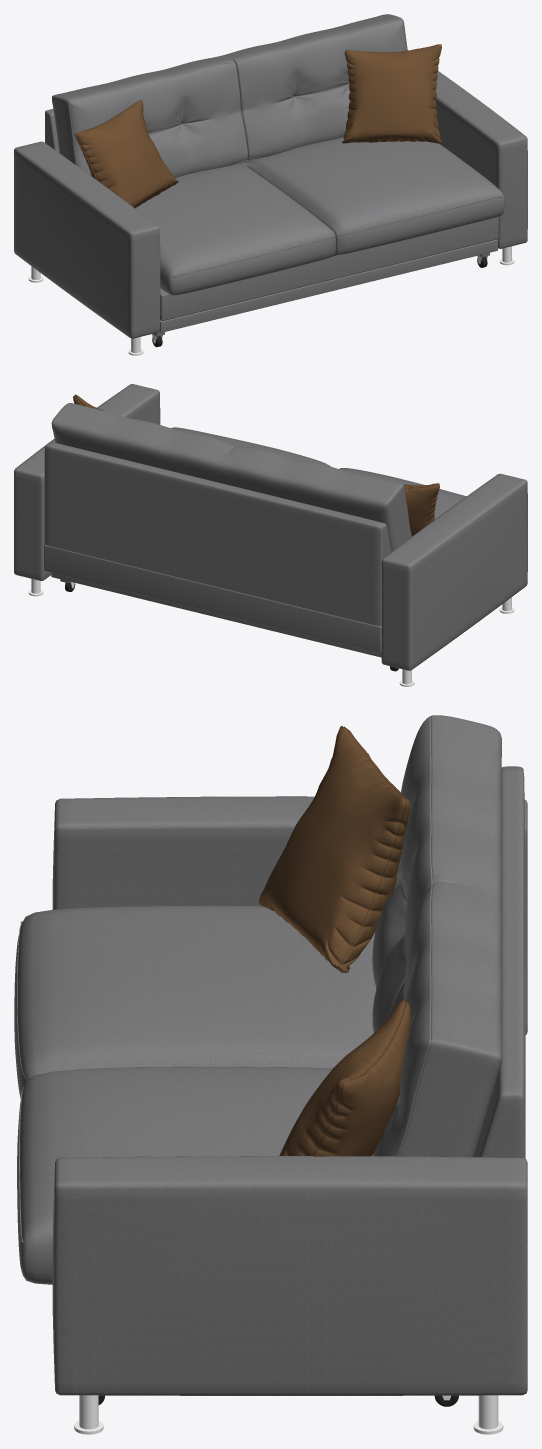
3 views of the same model, one above another, from view 1: azimuth 30°, elevation 25°; view 2: azimuth 150°, elevation 25°; view 3: azimuth 270°, elevation 25° (orthographic). The views are drawn at different scales.
Visible parts, largest first — view 1: Box009_gray_fabric_0, pillow_002, pillow_01_perl_fabric_0; view 2: Box009_gray_fabric_0, pillow_01_perl_fabric_0; view 3: Box009_gray_fabric_0, pillow_01_perl_fabric_0, pillow_002, Line010, Line009.
Boxes of the visible parts, left/top/right/bottom form: Box009_gray_fabric_0: left=14, top=14, right=527, bottom=338; pillow_002: left=341, top=44, right=441, bottom=143; pillow_01_perl_fabric_0: left=75, top=100, right=178, bottom=208; Box009_gray_fabric_0: left=14, top=384, right=527, bottom=670; pillow_01_perl_fabric_0: left=403, top=483, right=439, bottom=536; Box009_gray_fabric_0: left=14, top=715, right=527, bottom=1395; pillow_01_perl_fabric_0: left=258, top=726, right=410, bottom=972; pillow_002: left=279, top=999, right=410, bottom=1156; Line010: left=473, top=1395, right=503, bottom=1434; Line009: left=74, top=1395, right=103, bottom=1434.
Size of the model in its own units: 1902 by 838 by 1054.
4 materials, 2 textured.
